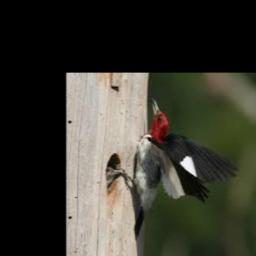Woodpecker: (107, 99, 237, 239)
